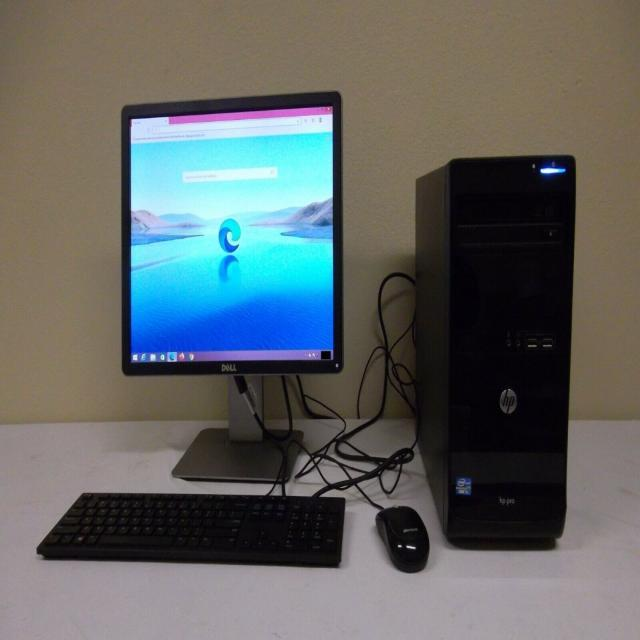Computer-Keyboard: (32, 473, 354, 583)
Computer-Mouse: (368, 497, 437, 571)
Desktop-PC: (404, 136, 612, 552)
Flat-Panel-Monitor: (103, 82, 345, 484)
